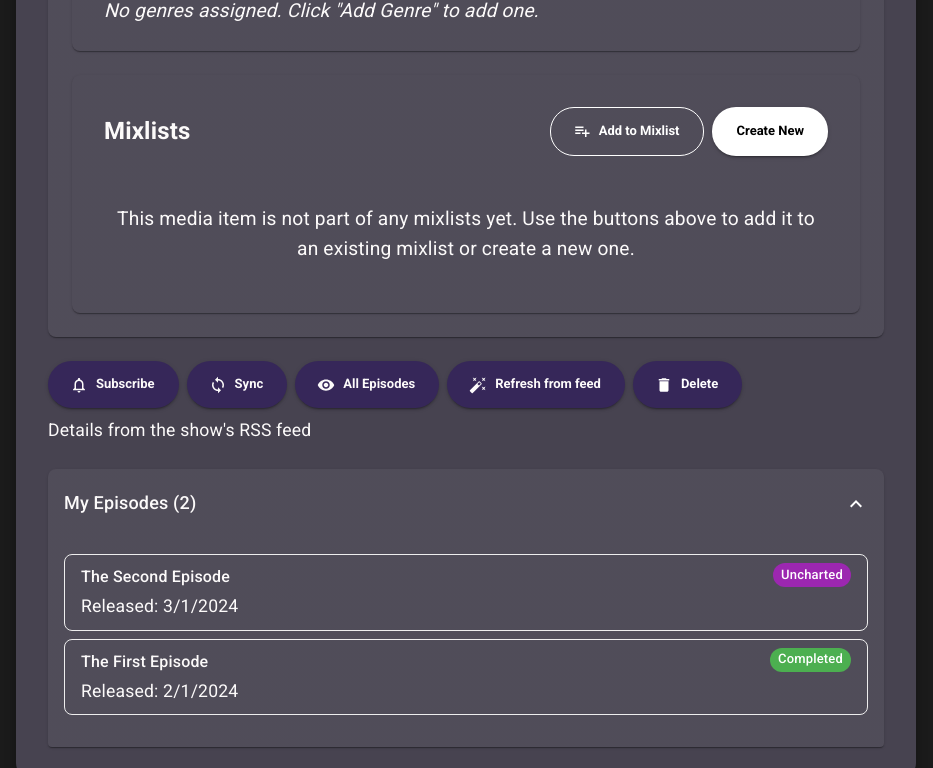
Test: PodcastSeriesProfile › explains on hover that a first sync adds the 25 newest episodes
(page scrolled)
Hover over the button "Sync" at (237, 385), box top-left (187, 361), bottom-right (287, 408)
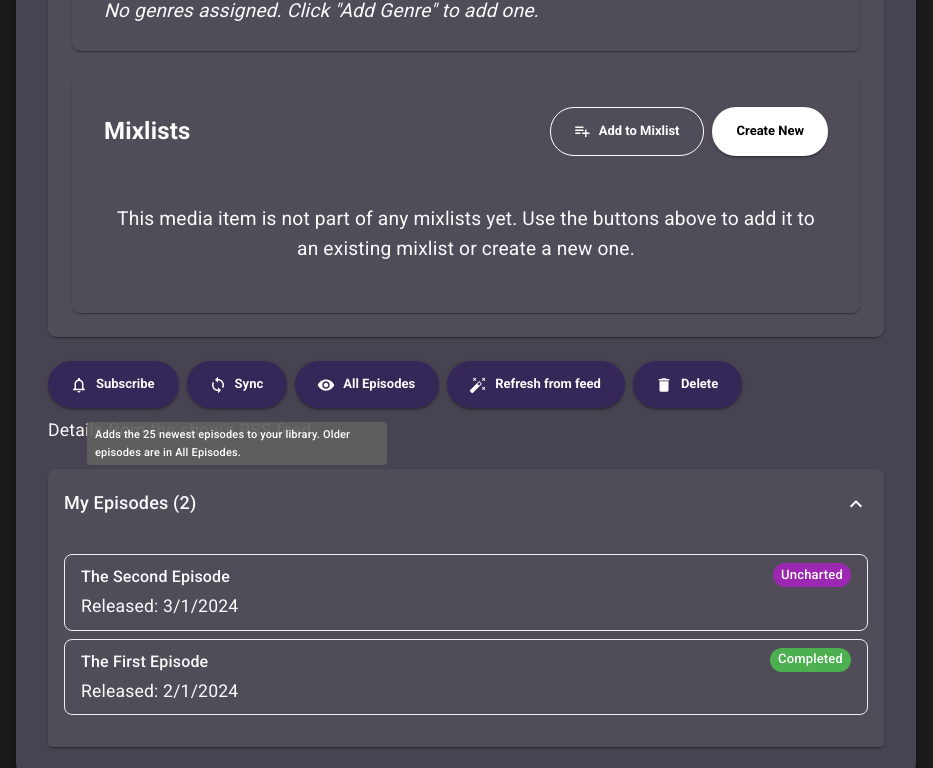
expect the tooltip shows "Adds the 25 newest episodes to your library": met, box top-left (95, 428), bottom-right (350, 459)
